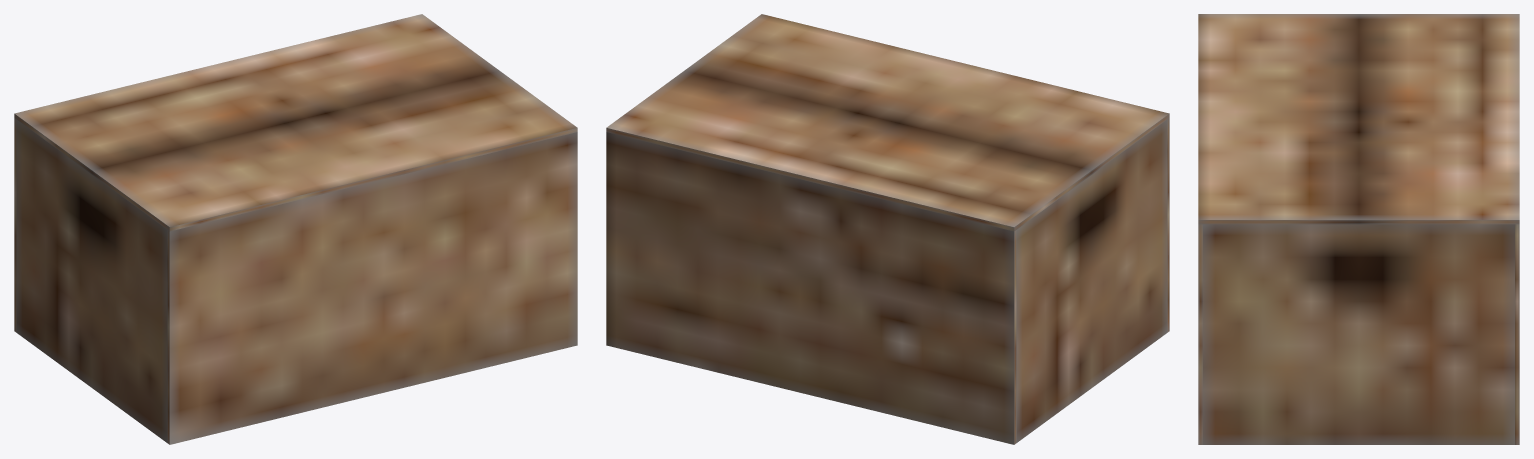
Rendered from Pappkast.fbx.
3 renders of one model, left to right at view 1: azimuth 30°, elevation 25°; view 2: azimuth 150°, elevation 25°; view 3: azimuth 270°, elevation 25°, orthographic. The views are drawn at different scales.
Parts seen in each view (by area): view 1: cube, cube_5, cube_3, cube_1; view 2: cube_1, cube_5, cube_3, cube; view 3: cube_2, cube_5, cube, cube_1.
Boxes of the visible parts, x1,y1,x2,y2 form: cube: (167,132,577,444); cube_5: (14,14,577,231); cube_3: (16,120,167,442); cube_1: (14,118,16,332); cube_1: (606,132,1016,444); cube_5: (606,14,1169,231); cube_3: (1016,120,1167,442); cube: (1167,118,1169,332); cube_2: (1203,224,1514,444); cube_5: (1198,14,1519,224); cube: (1198,224,1202,444); cube_1: (1515,224,1519,444).
Size of the model in its own units: 62.5 by 31.88 by 41.25.
Materials: 1 (1 with a texture image).
